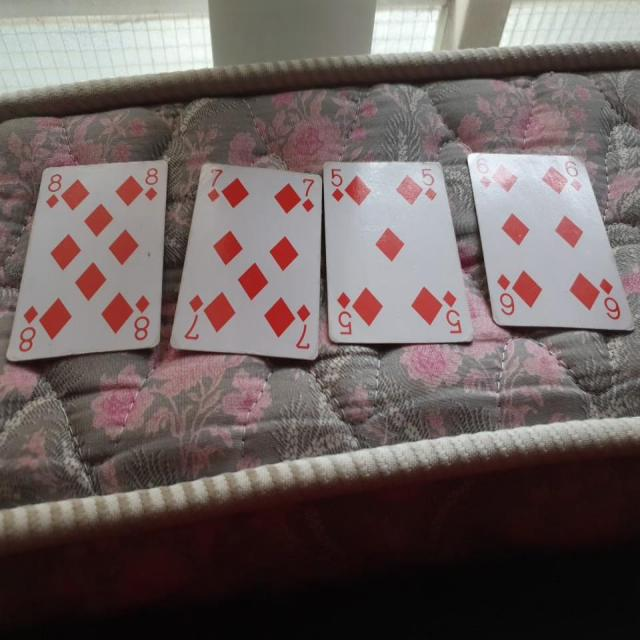5 Diamonds: (320, 158, 473, 350)
6 Diamonds: (467, 153, 638, 334)
7 Diamonds: (169, 160, 324, 367)
8 Diamonds: (5, 156, 167, 366)
